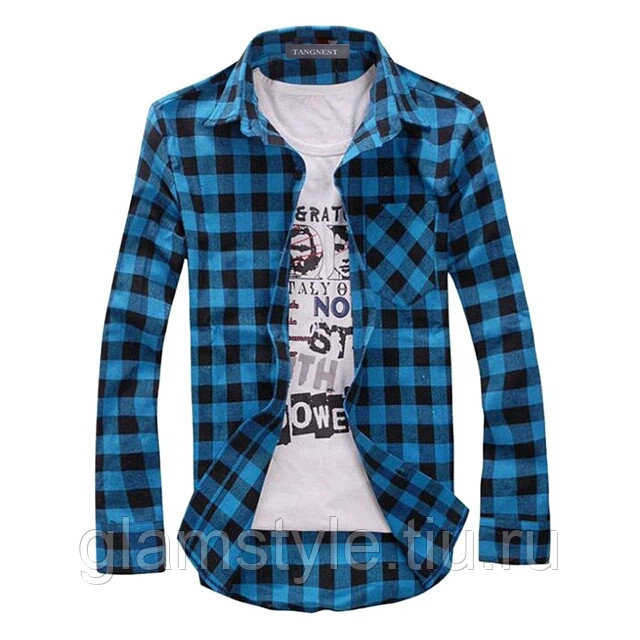squared: (87, 21, 555, 615)
